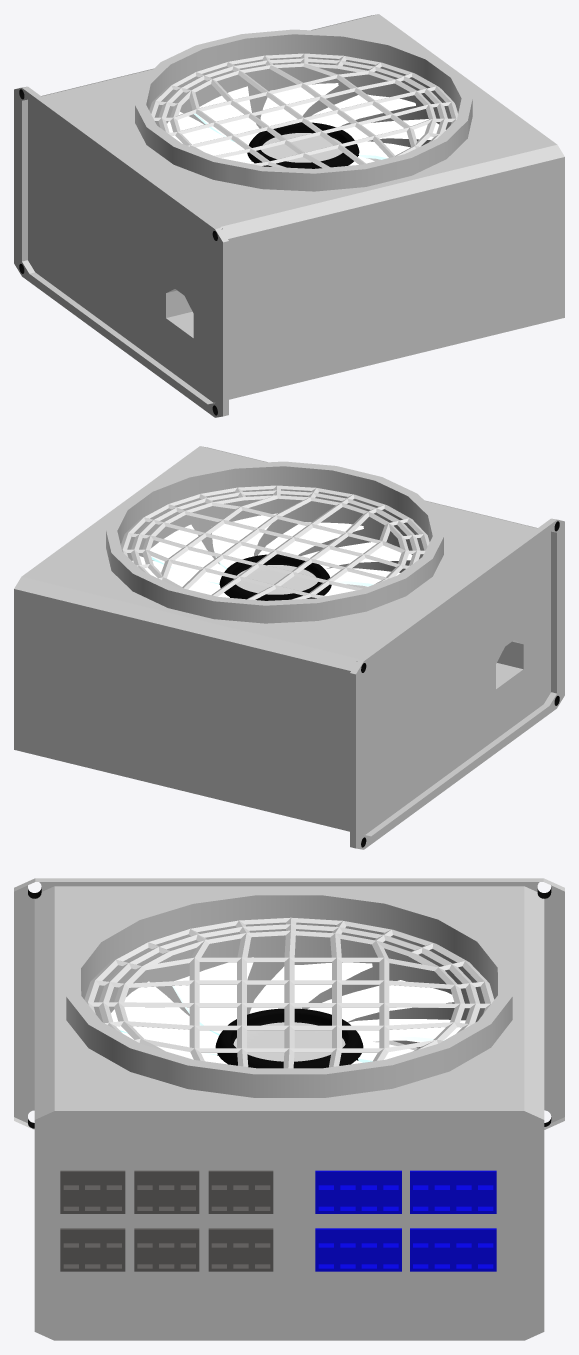
The model's file is psu.fbx.
3 renders of one model, top to bottom at view 1: azimuth 30°, elevation 25°; view 2: azimuth 150°, elevation 25°; view 3: azimuth 270°, elevation 25°, orthographic. The views are drawn at different scales.
Visible parts, largest first — view 1: Cube.037, Cube.036, Plane.025, Cylinder.047; view 2: Cube.037, Cube.036, Plane.025, Cylinder.047; view 3: Cube.037, Cube.036, Plane.025, Cylinder.047, Cube.043, Cube.041, Cube.040, Cube.021, Cube.048, Cube.046, Cube.045, Cube.047 (+2 smaller).
Part boxes in pixels (<box>): Cube.037: <box>14,14,564,417</box>; Cube.036: <box>149,53,457,167</box>; Plane.025: <box>167,83,445,165</box>; Cylinder.047: <box>247,122,359,168</box>; Cube.037: <box>14,446,564,849</box>; Cube.036: <box>121,485,429,599</box>; Plane.025: <box>132,513,412,597</box>; Cylinder.047: <box>219,554,331,600</box>; Cube.037: <box>14,878,564,1340</box>; Cube.036: <box>84,917,494,1068</box>; Plane.025: <box>111,957,465,1064</box>; Cylinder.047: <box>215,1008,363,1068</box>; Cube.043: <box>315,1228,401,1271</box>; Cube.041: <box>410,1228,496,1271</box>; Cube.040: <box>410,1170,496,1213</box>; Cube.021: <box>315,1170,401,1213</box>; Cube.048: <box>208,1228,273,1271</box>; Cube.046: <box>134,1228,199,1271</box>; Cube.045: <box>60,1228,125,1271</box>; Cube.047: <box>134,1170,199,1213</box>.
Size of the model in its own units: 117 by 64.02 by 121.
